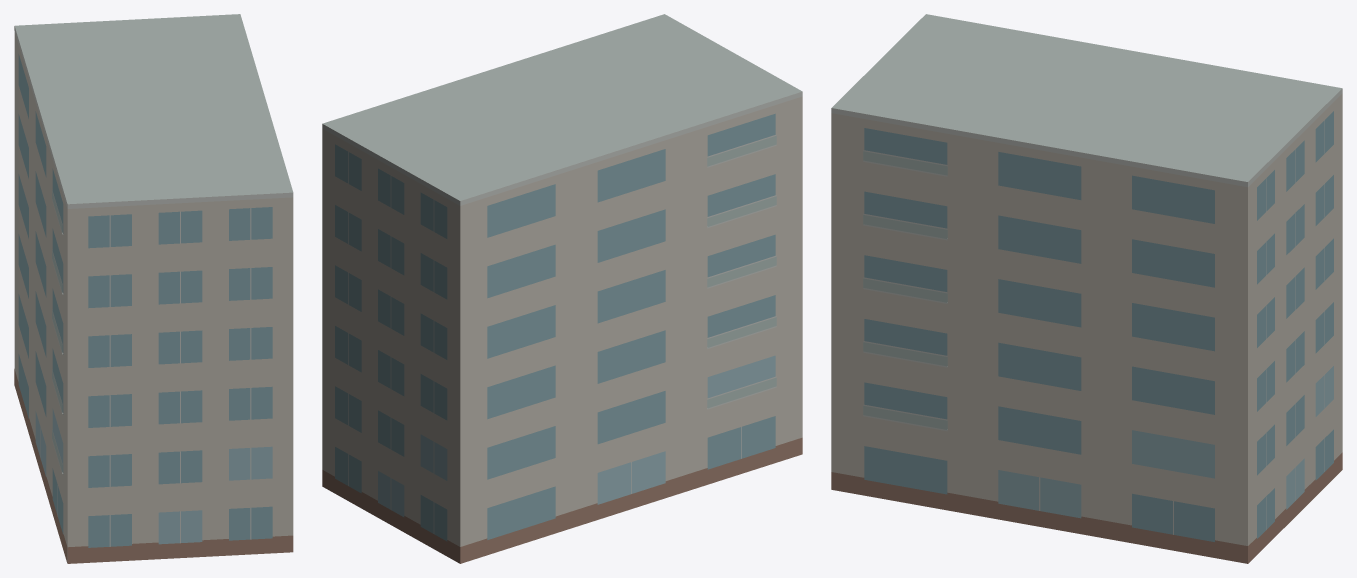
The model's file is survey-upis-32748032.glb.
3 views of the same model, side by side, from view 1: azimuth 30°, elevation 25°; view 2: azimuth 150°, elevation 25°; view 3: azimuth 270°, elevation 25° (orthographic). The views are drawn at different scales.
Parts seen in each view (by area): view 1: survey-upis-32748032.tmp; view 2: survey-upis-32748032.tmp; view 3: survey-upis-32748032.tmp.
Boxes of the visible parts, x1=… form: survey-upis-32748032.tmp: x1=14, y1=14, x2=293, y2=563; survey-upis-32748032.tmp: x1=322, y1=14, x2=802, y2=563; survey-upis-32748032.tmp: x1=831, y1=14, x2=1342, y2=563.
Size of the model in its own units: 17.27 by 18.27 by 22.18.
